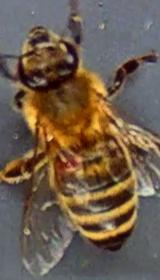varroa_mite: (46, 146, 94, 184)
